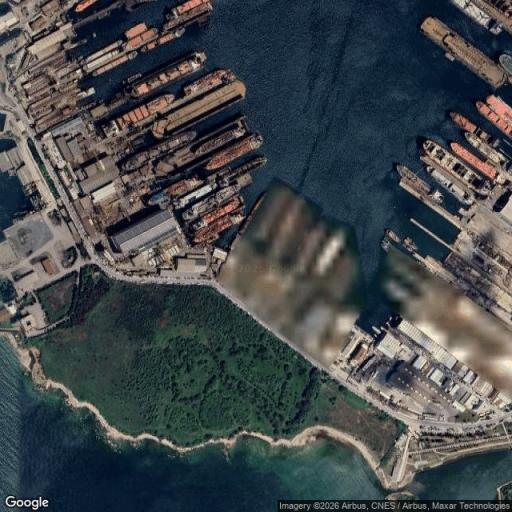ship: (420, 17, 507, 87), (152, 80, 245, 138), (128, 52, 206, 98), (421, 140, 484, 194), (122, 131, 196, 171), (115, 94, 174, 130), (182, 185, 240, 221), (397, 165, 446, 206), (206, 135, 263, 170), (426, 166, 474, 205), (448, 113, 500, 147), (451, 0, 502, 34), (450, 142, 496, 179), (213, 156, 266, 187), (465, 132, 508, 170), (163, 1, 214, 32), (192, 198, 240, 229), (148, 176, 201, 204), (193, 127, 246, 155), (476, 96, 511, 137), (194, 214, 243, 243), (184, 70, 235, 95), (473, 0, 511, 33), (173, 184, 215, 209), (141, 28, 184, 51), (124, 23, 158, 51), (84, 40, 122, 64), (83, 48, 120, 71), (92, 55, 128, 75), (486, 95, 511, 123), (172, 0, 209, 17), (124, 23, 147, 39), (125, 0, 155, 11), (75, 0, 98, 12), (385, 228, 400, 243), (500, 54, 511, 74), (76, 88, 95, 99), (404, 237, 417, 253), (124, 73, 142, 83), (381, 236, 390, 251), (128, 51, 137, 59)
